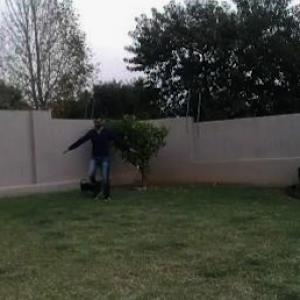land: (60, 108, 142, 205)
